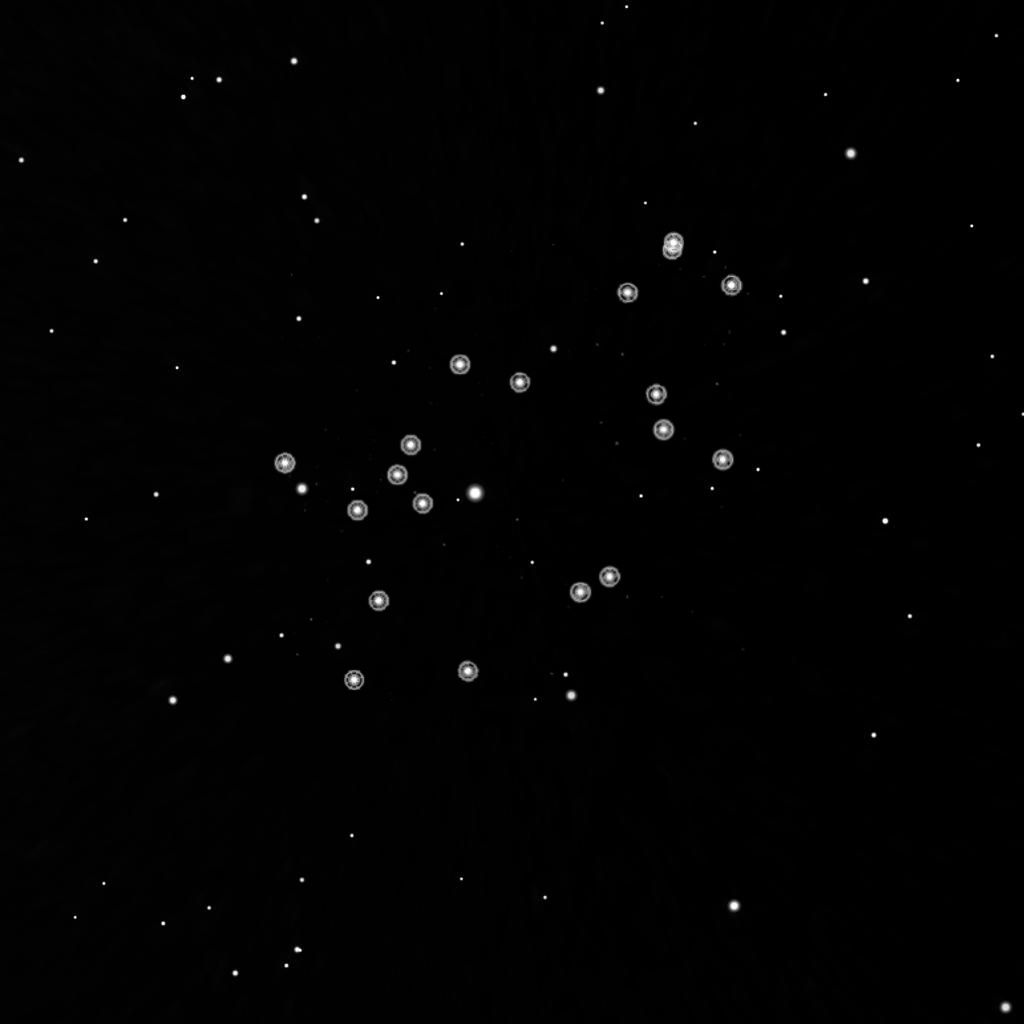canis_major: (341, 354, 530, 531)
